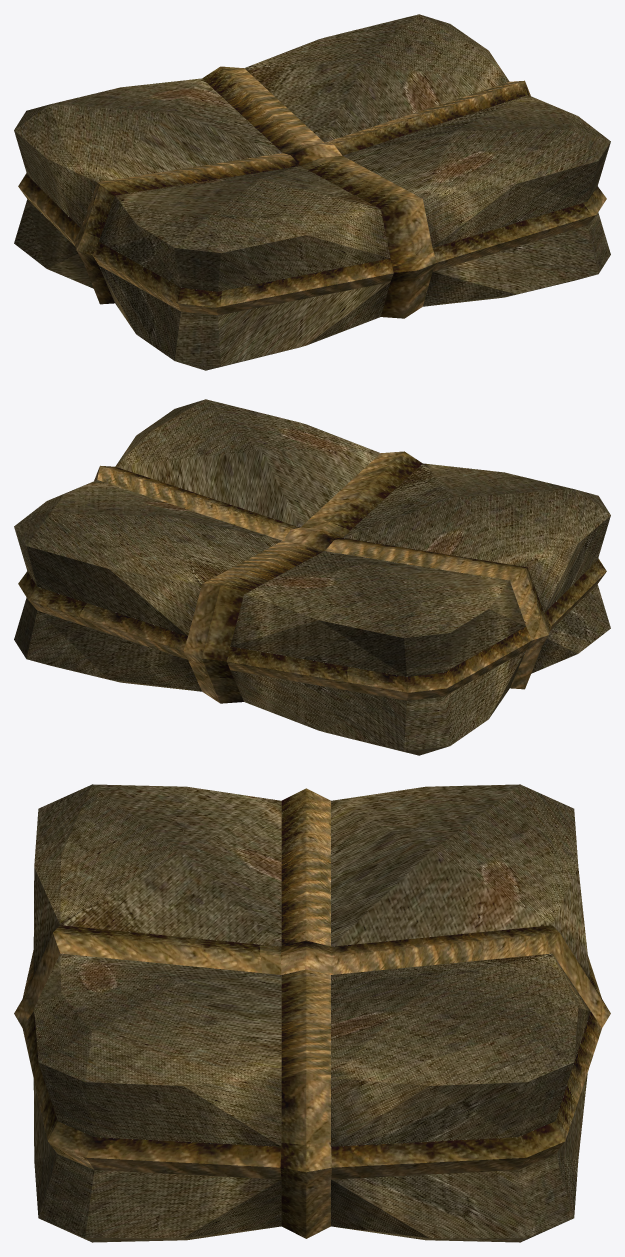
The model's file is ITMI_PACKET.glb.
3 renders of one model, top to bottom at view 1: azimuth 30°, elevation 25°; view 2: azimuth 150°, elevation 25°; view 3: azimuth 270°, elevation 25°, orthographic. The views are drawn at different scales.
Visible parts, largest first — view 1: ITMI_PACKET; view 2: ITMI_PACKET; view 3: ITMI_PACKET.
Part boxes in pixels (left/top/right/bottom): ITMI_PACKET: left=14, top=14, right=610, bottom=370; ITMI_PACKET: left=14, top=399, right=610, bottom=755; ITMI_PACKET: left=14, top=784, right=610, bottom=1242.
Bounding box in the file's own units: 0.4578 × 0.1414 × 0.364.
2 materials, 2 textured.
